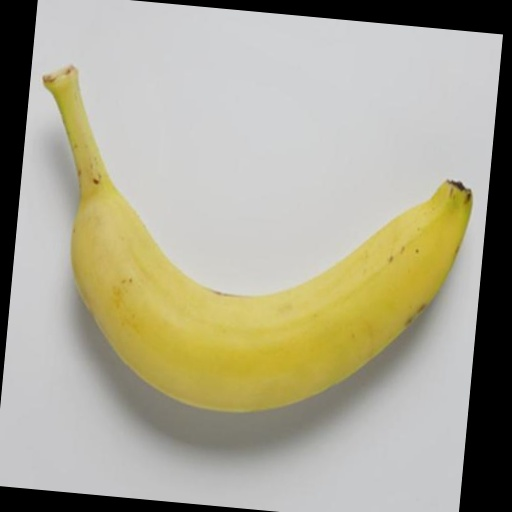fruit: (44, 67, 472, 411)
